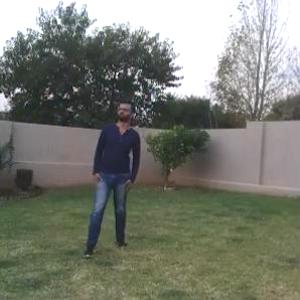follow: (88, 91, 142, 250)
